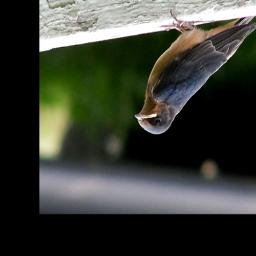Swallow: (134, 9, 256, 135)
